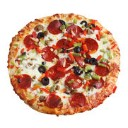pepperonipizza: (7, 13, 120, 113)
